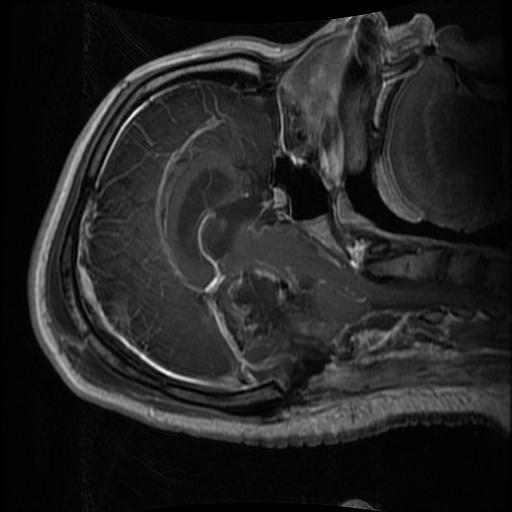glioma: (229, 264, 323, 341)
